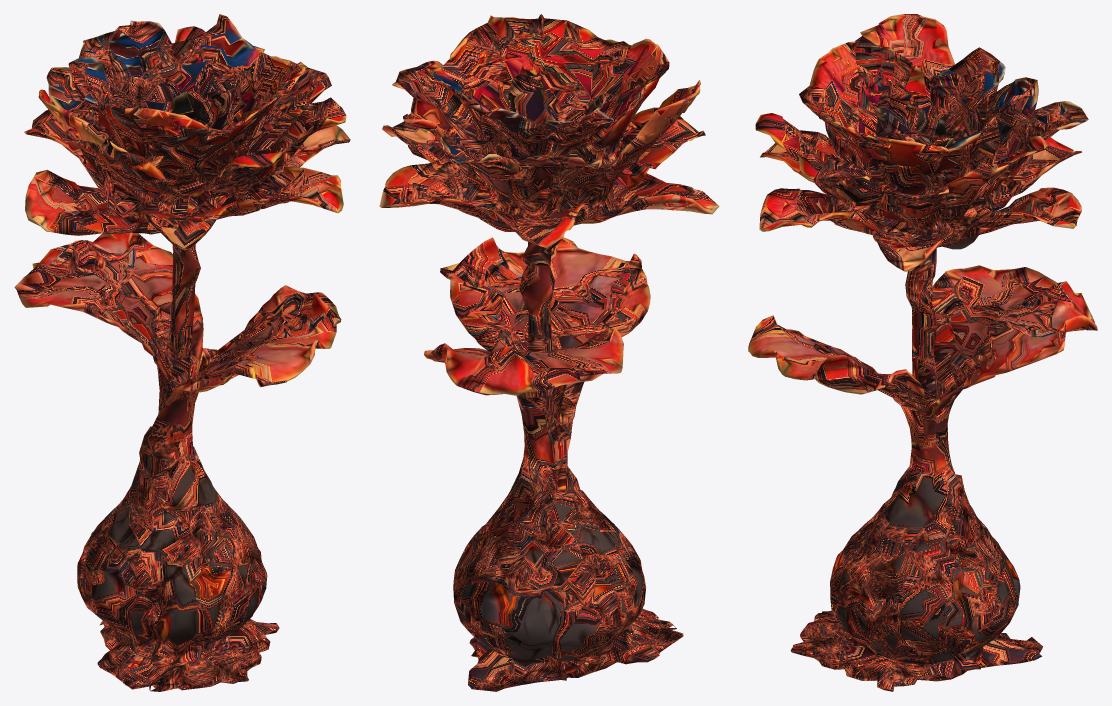
3 views of the same model, side by side, from view 1: azimuth 30°, elevation 25°; view 2: azimuth 150°, elevation 25°; view 3: azimuth 270°, elevation 25° (orthographic). The views are drawn at different scales.
Size of the model in its own units: 1.11 by 1.9 by 1.05.
Materials: 1 (1 with a texture image).
